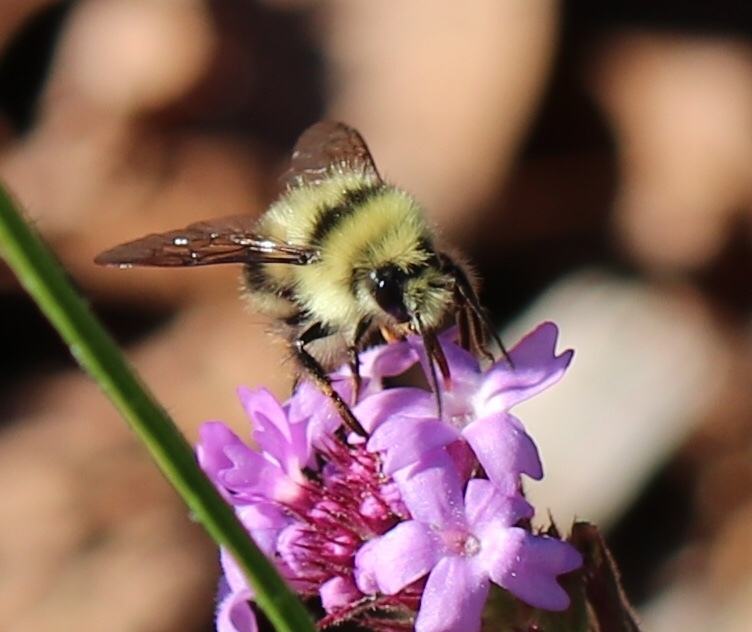bumblebee: (95, 120, 516, 436)
